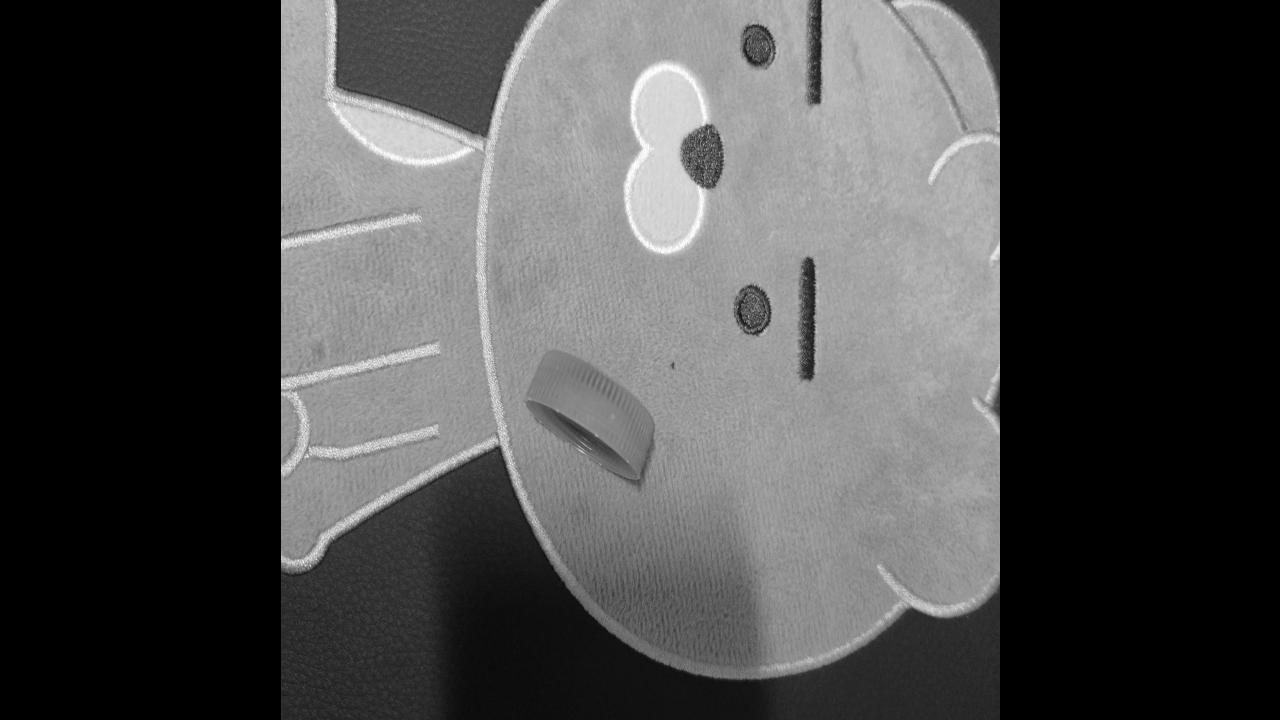bottle_cap: (518, 342, 654, 484)
